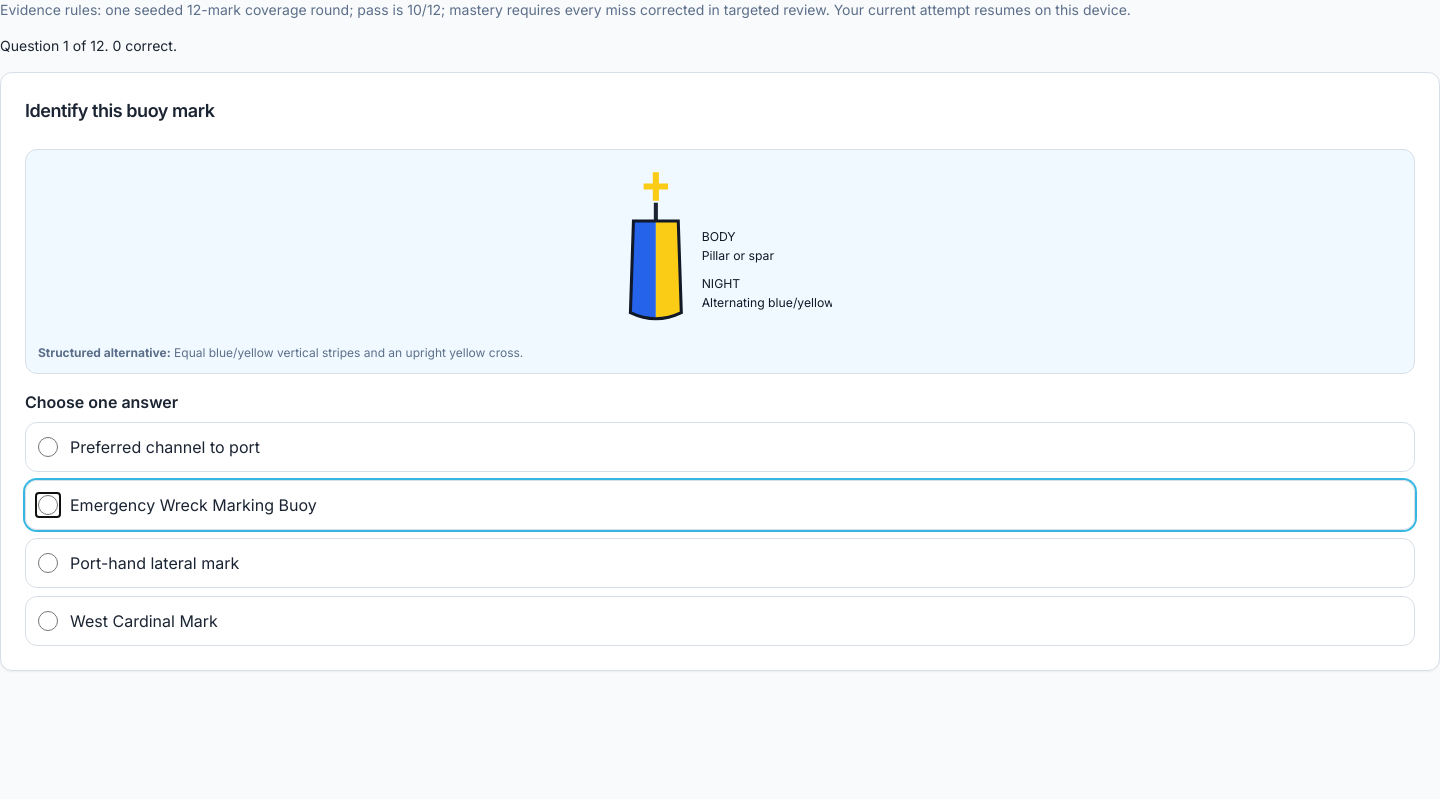
BuoyIdentifier mastery drill › uses a semantic keyboard-operable single-choice group and non-colour feedback
Step 1. Press Space in the radio button labelled "Emergency Wreck Marking Buoy", box [38,495,58,515]
Step 2. Click the radio button labelled "Emergency Wreck Marking Buoy" → click(48, 505), box [38,495,58,515]
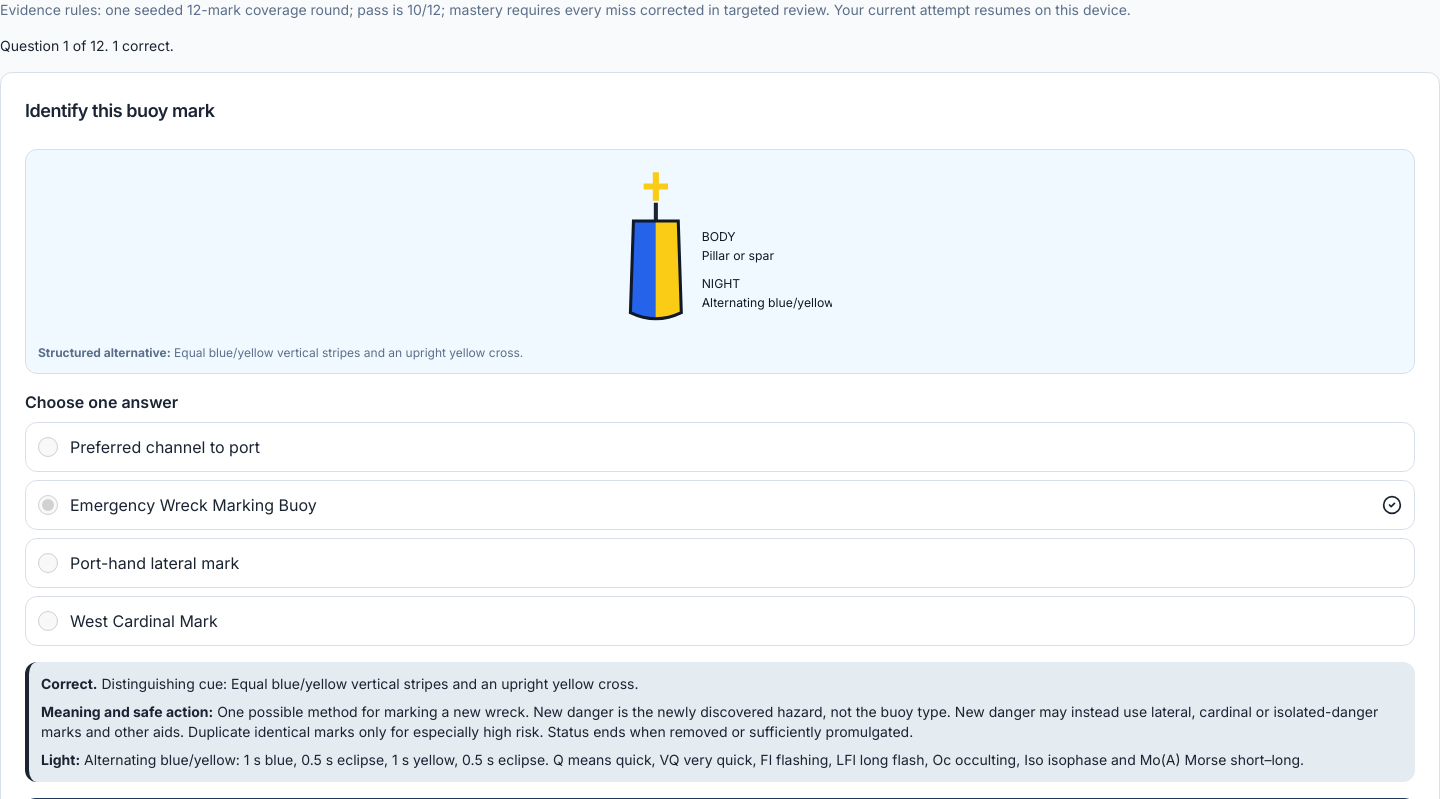
Expected: the element "Choose one answer" is disabled, [25,390,1415,646]
